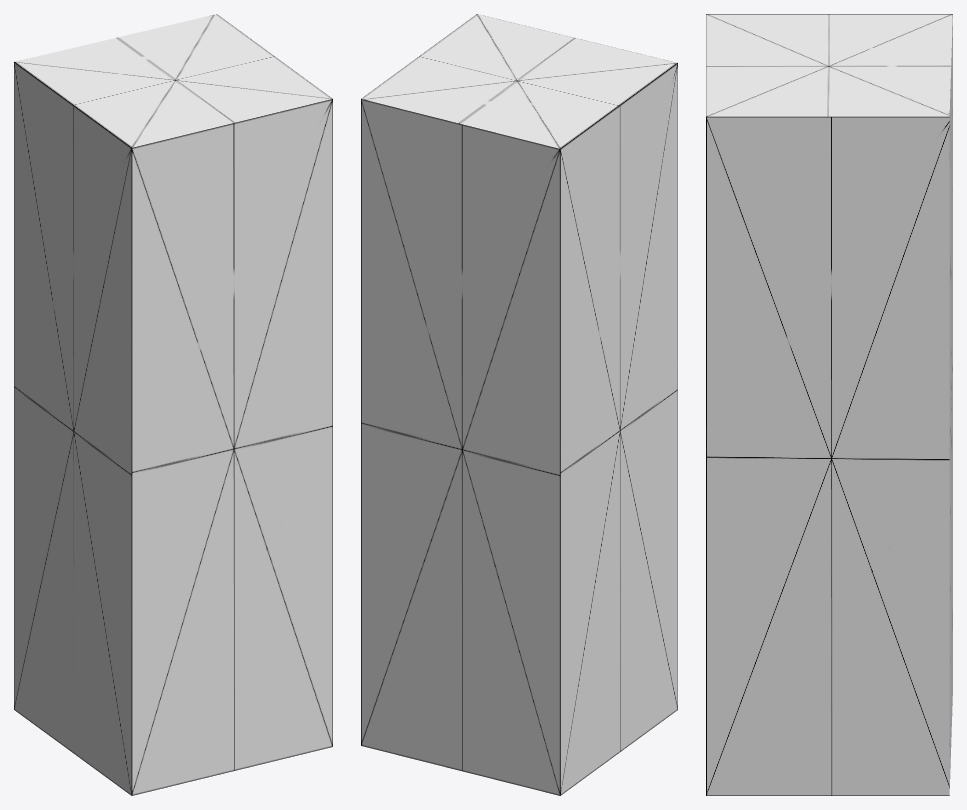
File: EspacioPirateriaEsquinaAperturaExteriorG.gltf
The picture shows the model from 3 angles, left to right: view 1: azimuth 30°, elevation 25°; view 2: azimuth 150°, elevation 25°; view 3: azimuth 270°, elevation 25°; orthographic projection. The views are drawn at different scales.
Parts seen in each view (by area): view 1: Objeto Poligonal; view 2: Objeto Poligonal; view 3: Objeto Poligonal.
Boxes of the visible parts, left/top/right/bottom form: Objeto Poligonal: left=14, top=14, right=332, bottom=795; Objeto Poligonal: left=361, top=14, right=677, bottom=795; Objeto Poligonal: left=706, top=14, right=952, bottom=795.
Bounding box in the file's own units: 0.65 × 2 × 0.6588.
Materials: 1 (1 with a texture image).
